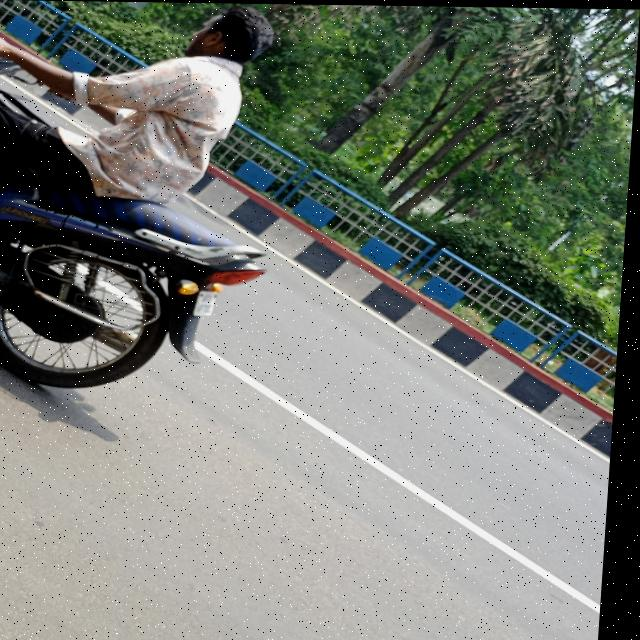bike: (0, 131, 269, 397)
